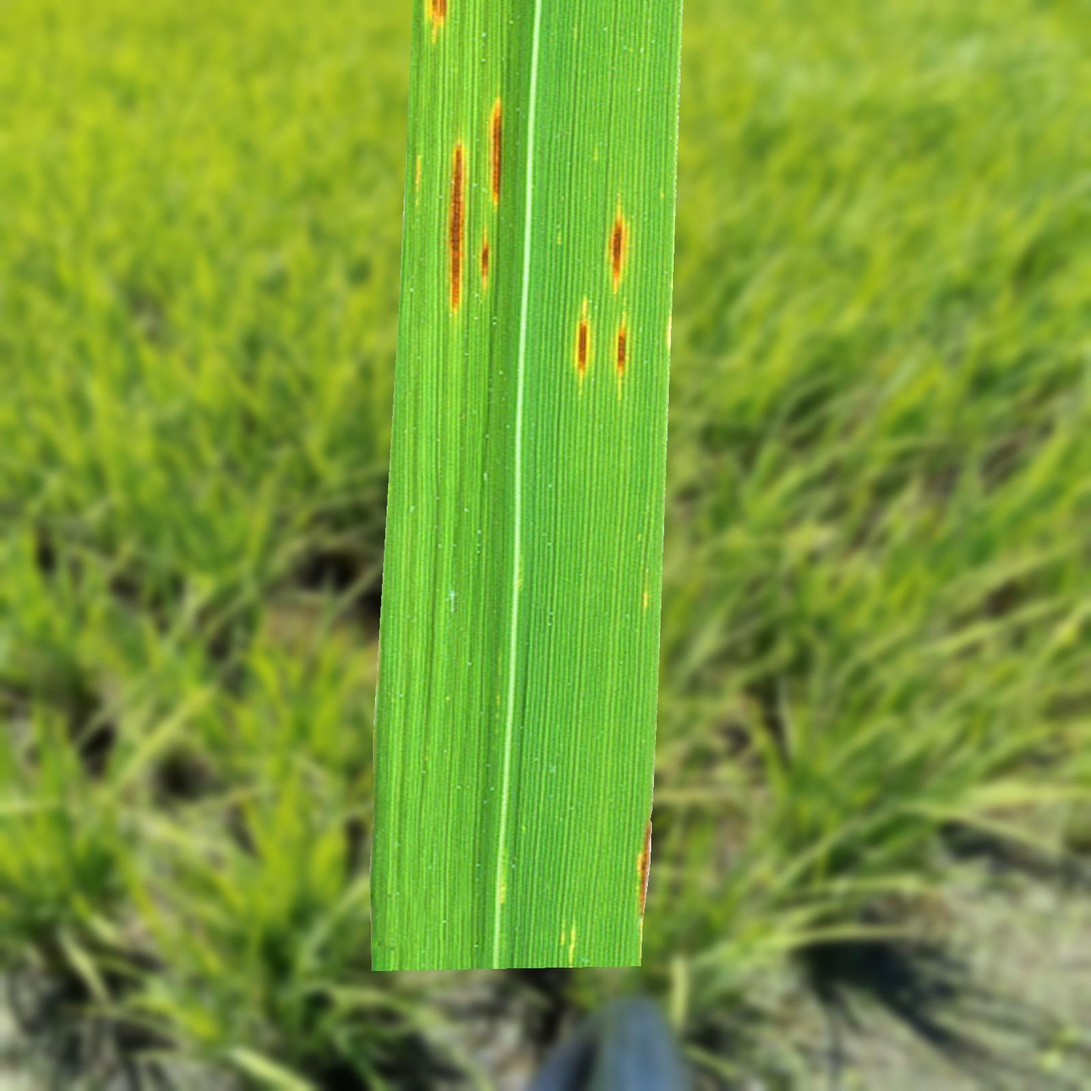LEAF: (370, 0, 683, 971)
NBS: (450, 148, 463, 311), (637, 818, 651, 927), (493, 105, 503, 196), (613, 219, 622, 279), (579, 322, 586, 369), (431, 0, 447, 18), (618, 331, 625, 370), (482, 246, 488, 277)
